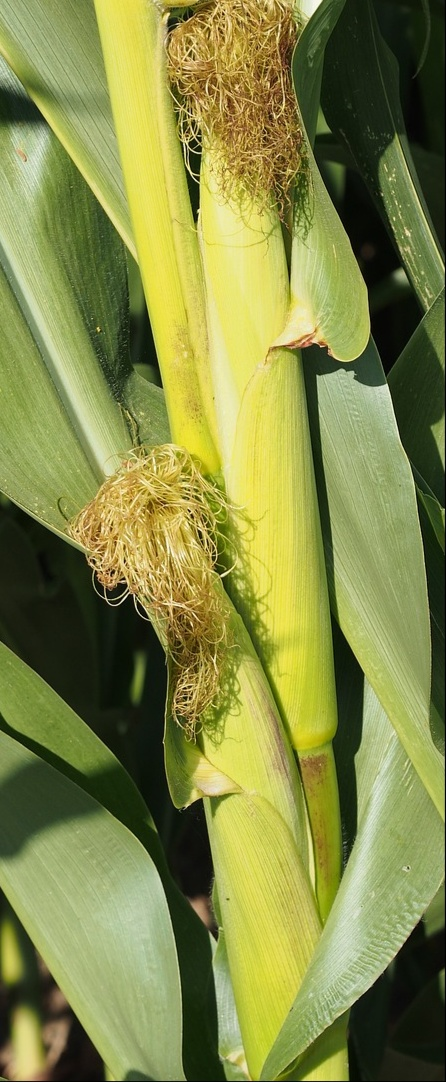corn_plant: (82, 478, 338, 1081), (158, 7, 345, 783)
